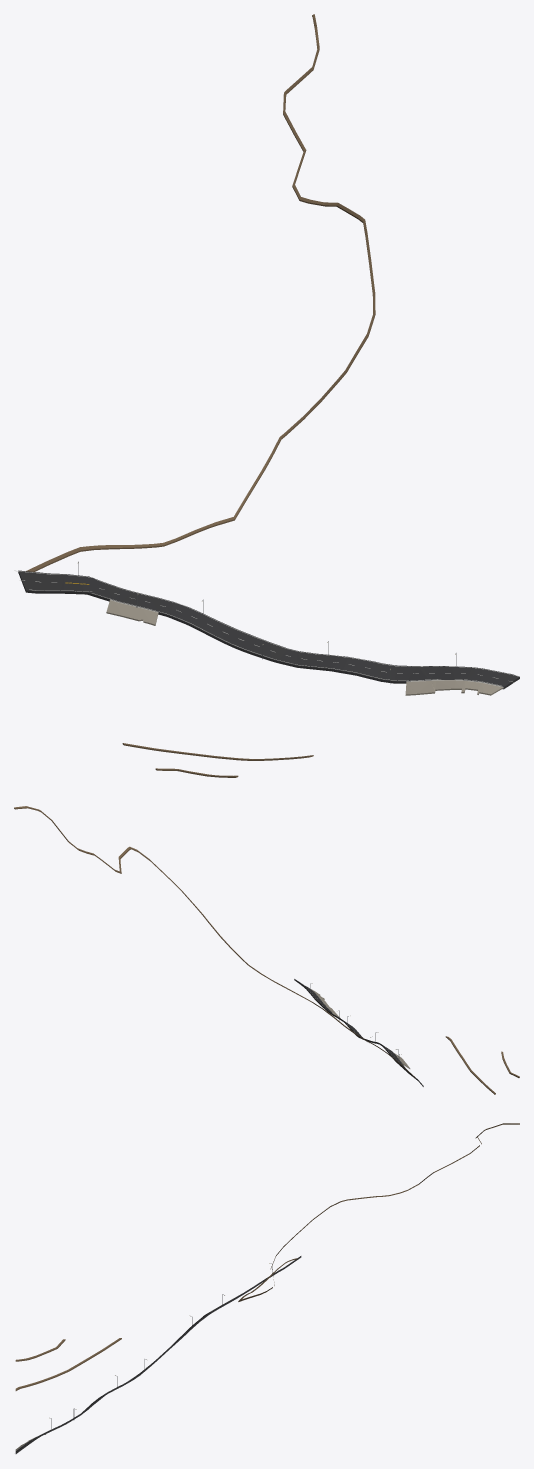
3 renders of one model, top to bottom at view 1: azimuth 30°, elevation 25°; view 2: azimuth 150°, elevation 25°; view 3: azimuth 270°, elevation 25°, orthographic. The views are drawn at different scales.
Size of the model in its own units: 245 by 254 by 293.
